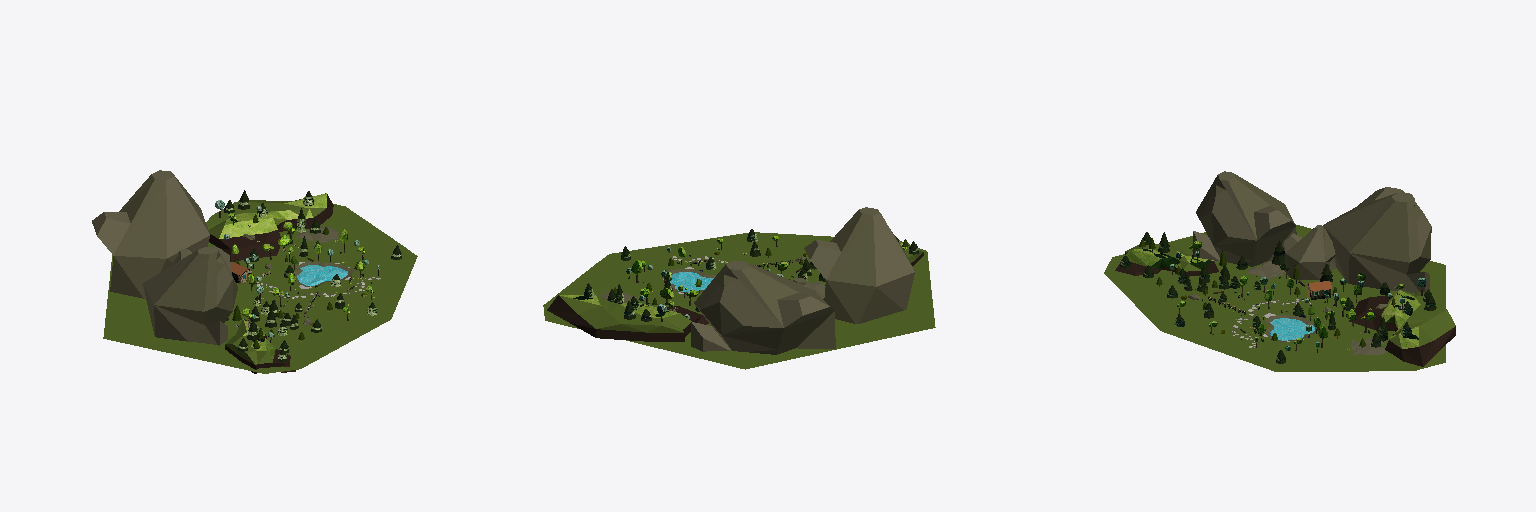
3 renders of one model, left to right at view 1: azimuth 30°, elevation 25°; view 2: azimuth 150°, elevation 25°; view 3: azimuth 270°, elevation 25°, orthographic.
Visible parts, largest first — view 1: Mesh1 G_3DGeom_1 G_3DGeom_11 Assembly_1 SimLab_skp Assembly_2 Mo, Mesh638 G_3DGeom_5_1 Assembly_1 SimLab_skp Assembly_2 Model, Mesh676 G_3DGeom_8_1 Assembly_1 SimLab_skp Assembly_2 Model, Mesh685 G_3DGeom_8_1 Assembly_1 SimLab_skp Assembly_2 Model, Mesh780 G_3DGeom_13 Assembly_1 SimLab_skp Assembly_2 Model, Mesh913 G_3DGeom_27 Assembly_1 SimLab_skp Assembly_2 Model, Mesh686 G_3DGeom_8_1 Assembly_1 SimLab_skp Assembly_2 Model, Mesh7 G_3DGeom_1 G_3DGeom_11 Assembly_1 SimLab_skp Assembly_2 Mo, Mesh501 G_3DGeom_3_1 Assembly_1 SimLab_skp Assembly_2 Model, Mesh2 G_3DGeom_1 G_3DGeom_11 Assembly_1 SimLab_skp Assembly_2 Mo; view 2: Mesh1 G_3DGeom_1 G_3DGeom_11 Assembly_1 SimLab_skp Assembly_2 Mo, Mesh638 G_3DGeom_5_1 Assembly_1 SimLab_skp Assembly_2 Model, Mesh676 G_3DGeom_8_1 Assembly_1 SimLab_skp Assembly_2 Model, Mesh685 G_3DGeom_8_1 Assembly_1 SimLab_skp Assembly_2 Model, Mesh7 G_3DGeom_1 G_3DGeom_11 Assembly_1 SimLab_skp Assembly_2 Mo, Mesh639 G_3DGeom_5_1 Assembly_1 SimLab_skp Assembly_2 Model, Mesh780 G_3DGeom_13 Assembly_1 SimLab_skp Assembly_2 Model, Mesh686 G_3DGeom_8_1 Assembly_1 SimLab_skp Assembly_2 Model, Mesh677 G_3DGeom_8_1 Assembly_1 SimLab_skp Assembly_2 Model, Mesh684 G_3DGeom_8_1 Assembly_1 SimLab_skp Assembly_2 Model, Mesh501 G_3DGeom_3_1 Assembly_1 SimLab_skp Assembly_2 Model; view 3: Mesh1 G_3DGeom_1 G_3DGeom_11 Assembly_1 SimLab_skp Assembly_2 Mo, Mesh638 G_3DGeom_5_1 Assembly_1 SimLab_skp Assembly_2 Model, Mesh639 G_3DGeom_5_1 Assembly_1 SimLab_skp Assembly_2 Model, Mesh685 G_3DGeom_8_1 Assembly_1 SimLab_skp Assembly_2 Model, Mesh780 G_3DGeom_13 Assembly_1 SimLab_skp Assembly_2 Model, Mesh676 G_3DGeom_8_1 Assembly_1 SimLab_skp Assembly_2 Model, Mesh7 G_3DGeom_1 G_3DGeom_11 Assembly_1 SimLab_skp Assembly_2 Mo, Mesh680 G_3DGeom_8_1 Assembly_1 SimLab_skp Assembly_2 Model, Mesh913 G_3DGeom_27 Assembly_1 SimLab_skp Assembly_2 Model, Mesh910 G_3DGeom_27 Assembly_1 SimLab_skp Assembly_2 Model, Mesh501 G_3DGeom_3_1 Assembly_1 SimLab_skp Assembly_2 Model, Mesh677 G_3DGeom_8_1 Assembly_1 SimLab_skp Assembly_2 Model.
Boxes of the visible parts, x1,y1,x2,y2 form: Mesh1 G_3DGeom_1 G_3DGeom_11 Assembly_1 SimLab_skp Assembly_2 Mo: [103, 204, 417, 373]; Mesh638 G_3DGeom_5_1 Assembly_1 SimLab_skp Assembly_2 Model: [110, 174, 237, 344]; Mesh676 G_3DGeom_8_1 Assembly_1 SimLab_skp Assembly_2 Model: [143, 247, 235, 341]; Mesh685 G_3DGeom_8_1 Assembly_1 SimLab_skp Assembly_2 Model: [152, 170, 209, 262]; Mesh780 G_3DGeom_13 Assembly_1 SimLab_skp Assembly_2 Model: [209, 194, 333, 261]; Mesh913 G_3DGeom_27 Assembly_1 SimLab_skp Assembly_2 Model: [219, 210, 298, 238]; Mesh686 G_3DGeom_8_1 Assembly_1 SimLab_skp Assembly_2 Model: [92, 212, 130, 255]; Mesh7 G_3DGeom_1 G_3DGeom_11 Assembly_1 SimLab_skp Assembly_2 Mo: [206, 193, 325, 238]; Mesh501 G_3DGeom_3_1 Assembly_1 SimLab_skp Assembly_2 Model: [297, 265, 347, 285]; Mesh2 G_3DGeom_1 G_3DGeom_11 Assembly_1 SimLab_skp Assembly_2 Mo: [225, 320, 272, 364]; Mesh1 G_3DGeom_1 G_3DGeom_11 Assembly_1 SimLab_skp Assembly_2 Mo: [543, 232, 935, 369]; Mesh638 G_3DGeom_5_1 Assembly_1 SimLab_skp Assembly_2 Model: [742, 210, 914, 354]; Mesh676 G_3DGeom_8_1 Assembly_1 SimLab_skp Assembly_2 Model: [859, 207, 914, 309]; Mesh685 G_3DGeom_8_1 Assembly_1 SimLab_skp Assembly_2 Model: [700, 261, 782, 327]; Mesh7 G_3DGeom_1 G_3DGeom_11 Assembly_1 SimLab_skp Assembly_2 Mo: [559, 295, 691, 332]; Mesh639 G_3DGeom_5_1 Assembly_1 SimLab_skp Assembly_2 Model: [694, 264, 783, 349]; Mesh780 G_3DGeom_13 Assembly_1 SimLab_skp Assembly_2 Model: [547, 295, 708, 341]; Mesh686 G_3DGeom_8_1 Assembly_1 SimLab_skp Assembly_2 Model: [777, 293, 829, 327]; Mesh677 G_3DGeom_8_1 Assembly_1 SimLab_skp Assembly_2 Model: [804, 240, 840, 278]; Mesh684 G_3DGeom_8_1 Assembly_1 SimLab_skp Assembly_2 Model: [691, 322, 730, 351]; Mesh501 G_3DGeom_3_1 Assembly_1 SimLab_skp Assembly_2 Model: [670, 272, 713, 292]; Mesh1 G_3DGeom_1 G_3DGeom_11 Assembly_1 SimLab_skp Assembly_2 Mo: [1104, 224, 1445, 371]; Mesh638 G_3DGeom_5_1 Assembly_1 SimLab_skp Assembly_2 Model: [1196, 173, 1396, 279]; Mesh639 G_3DGeom_5_1 Assembly_1 SimLab_skp Assembly_2 Model: [1350, 199, 1431, 293]; Mesh685 G_3DGeom_8_1 Assembly_1 SimLab_skp Assembly_2 Model: [1323, 192, 1431, 290]; Mesh780 G_3DGeom_13 Assembly_1 SimLab_skp Assembly_2 Model: [1349, 295, 1455, 366]; Mesh676 G_3DGeom_8_1 Assembly_1 SimLab_skp Assembly_2 Model: [1199, 171, 1256, 240]; Mesh7 G_3DGeom_1 G_3DGeom_11 Assembly_1 SimLab_skp Assembly_2 Mo: [1392, 290, 1455, 346]; Mesh680 G_3DGeom_8_1 Assembly_1 SimLab_skp Assembly_2 Model: [1299, 225, 1330, 278]; Mesh913 G_3DGeom_27 Assembly_1 SimLab_skp Assembly_2 Model: [1381, 290, 1420, 334]; Mesh910 G_3DGeom_27 Assembly_1 SimLab_skp Assembly_2 Model: [1125, 249, 1181, 268]; Mesh501 G_3DGeom_3_1 Assembly_1 SimLab_skp Assembly_2 Model: [1270, 318, 1314, 340]; Mesh677 G_3DGeom_8_1 Assembly_1 SimLab_skp Assembly_2 Model: [1254, 206, 1290, 239].
Bounding box in the file's own units: 82.04 × 21.22 × 78.15.
33 materials, 16 textured.